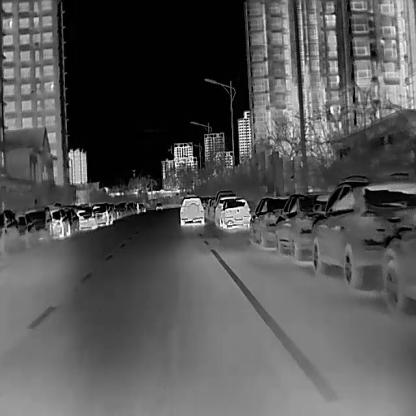car: (310, 172, 415, 290), (273, 192, 333, 260), (247, 196, 287, 248), (218, 196, 251, 227), (26, 206, 53, 242), (0, 208, 20, 254), (47, 200, 70, 238), (15, 210, 36, 248), (179, 193, 203, 225), (76, 206, 97, 228), (92, 201, 109, 224), (155, 201, 162, 209), (135, 202, 139, 214)
